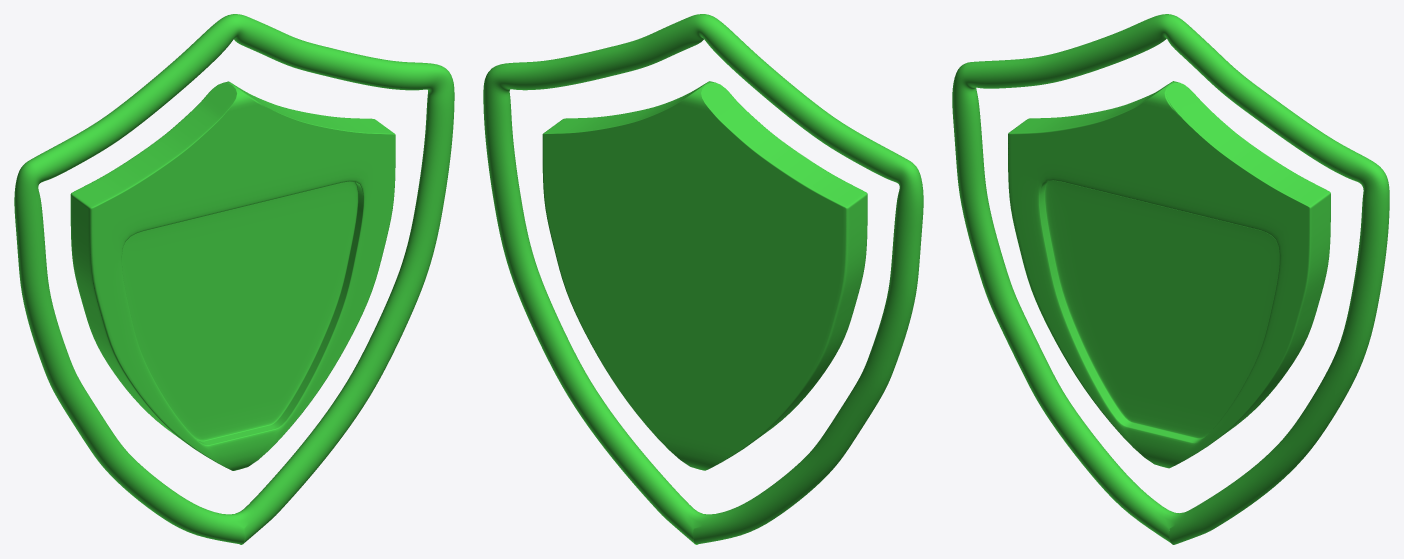
File: powerupsescudo.fbx
3 renders of one model, left to right at view 1: azimuth 30°, elevation 25°; view 2: azimuth 150°, elevation 25°; view 3: azimuth 330°, elevation 25°, orthographic.
Parts seen in each view (by area): view 1: pCube1, pCylinder1; view 2: pCube1, pCylinder1; view 3: pCube1, pCylinder1.
Boxes of the visible parts, left/top/right/bottom form: pCube1: left=70, top=81, right=395, bottom=470; pCylinder1: left=14, top=14, right=454, bottom=544; pCube1: left=542, top=81, right=867, bottom=470; pCylinder1: left=483, top=14, right=923, bottom=544; pCube1: left=1008, top=81, right=1330, bottom=468; pCylinder1: left=952, top=14, right=1389, bottom=544.
Bounding box in the file's own units: 6.37 × 7.38 × 0.531.
